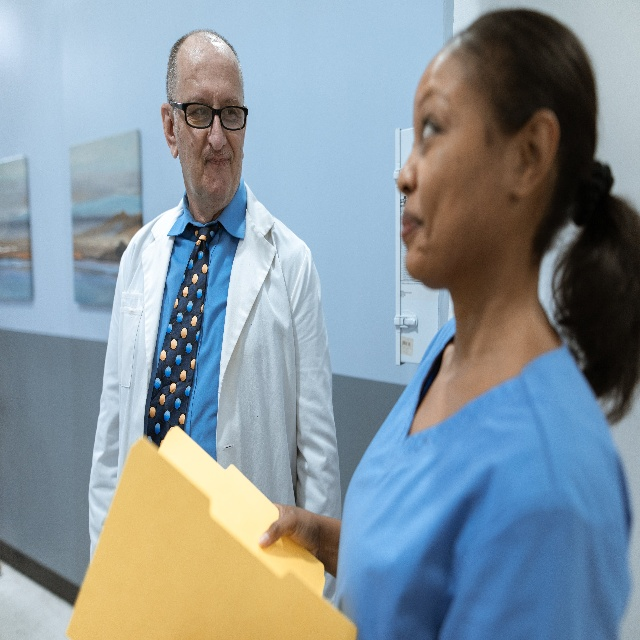Gafas: (168, 98, 248, 133)
Sin_guantes: (257, 493, 320, 558)
